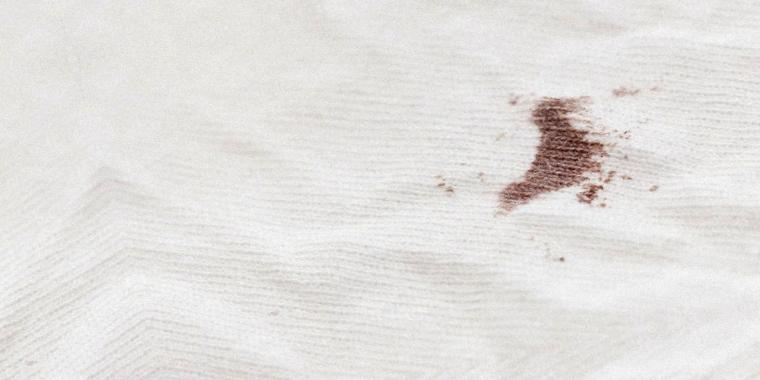stain: (497, 90, 616, 215)
